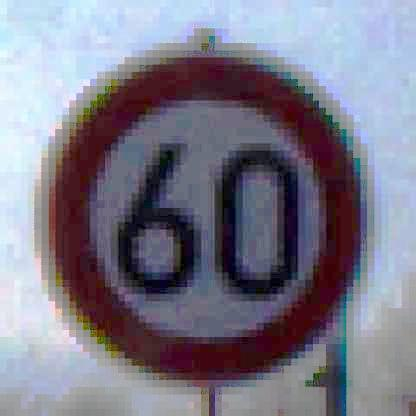Speed Limit -60-: (32, 40, 379, 393)
